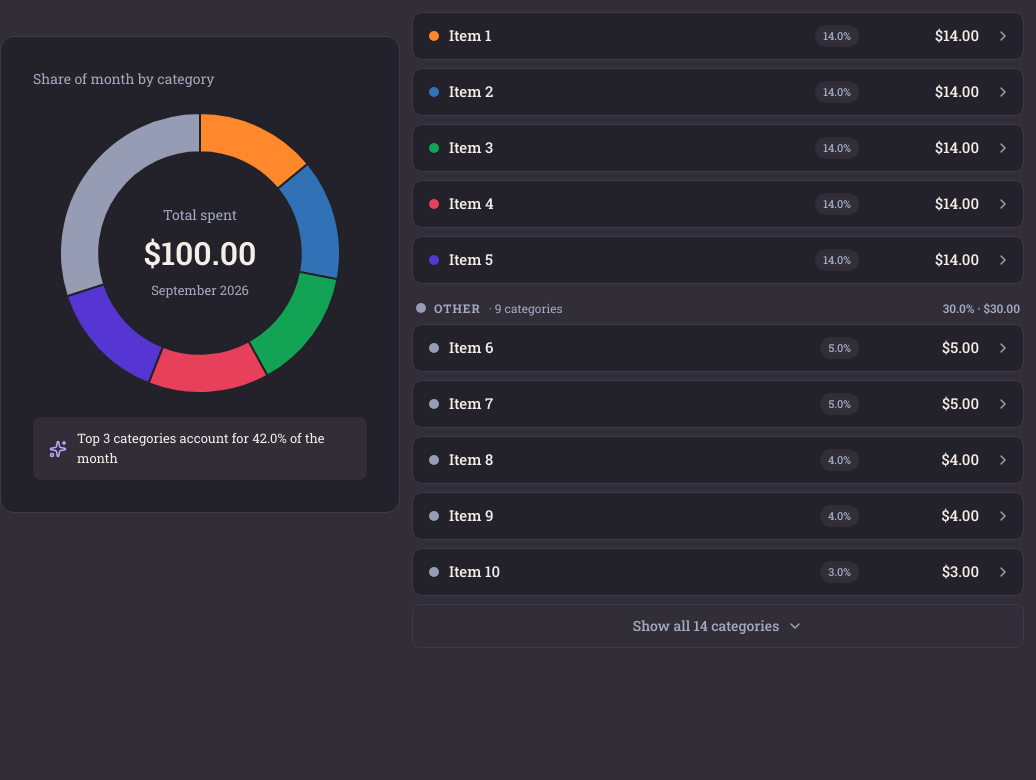
Test case: BreakdownContent – selecting › selects from a legend row too
Click the button "Item 3 14.0% $14.00" at (471, 147), box left=413, top=125, right=987, bottom=171
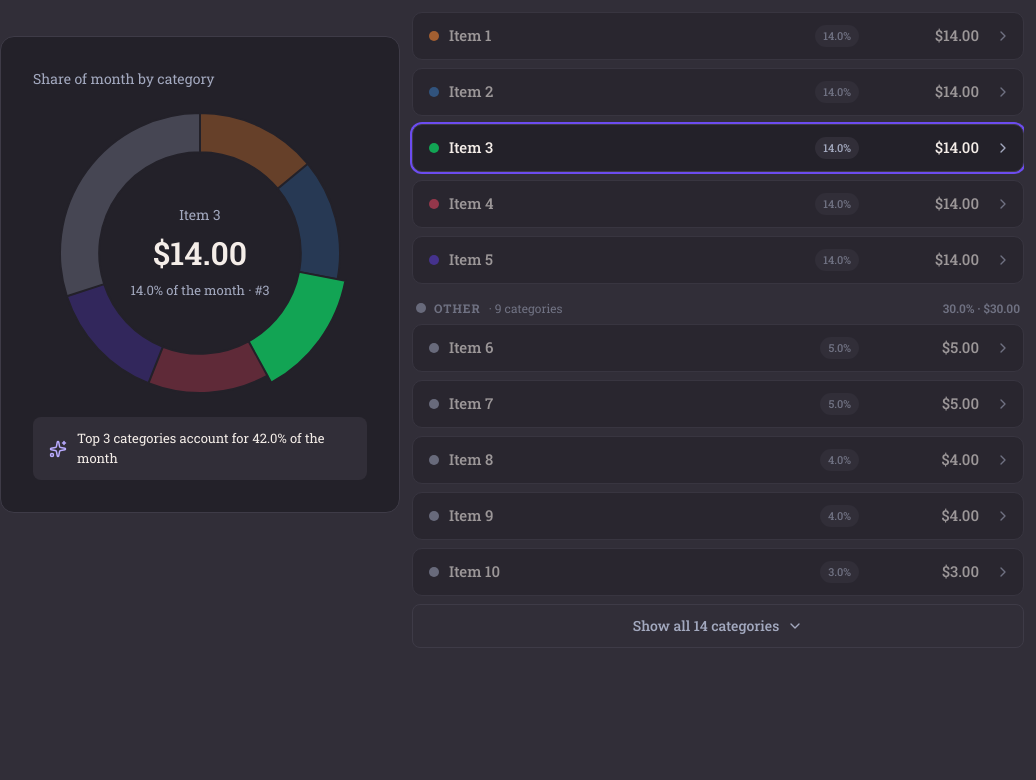
Check: the text "14.0% of the month · #3" is shown, box left=130, top=281, right=270, bottom=301
